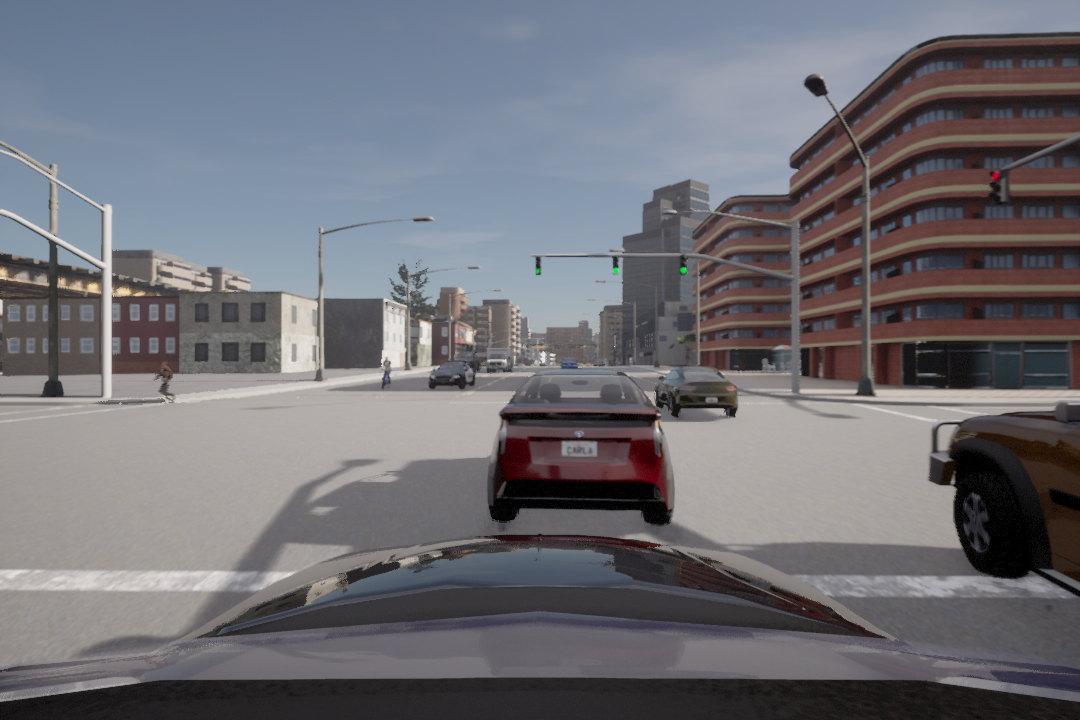TrafficLight: (984, 171, 1016, 208), (677, 251, 691, 281), (609, 252, 624, 278), (534, 254, 544, 277)
